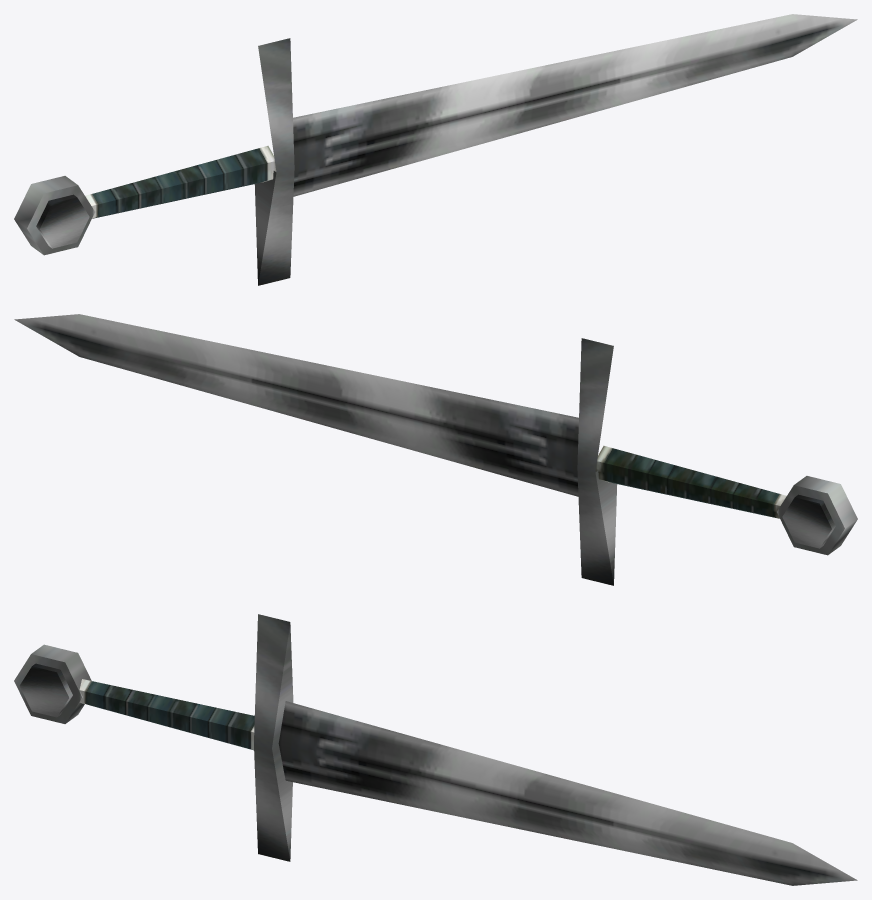
The picture shows the model from 3 angles, top to bottom: view 1: azimuth 30°, elevation 25°; view 2: azimuth 150°, elevation 25°; view 3: azimuth 330°, elevation 25°; orthographic projection.
Visible parts, largest first — view 1: it10650; view 2: it10650; view 3: it10650.
Part boxes in pixels (x1=…): it10650: x1=14, y1=14, x2=857, y2=285; it10650: x1=14, y1=314, x2=857, y2=585; it10650: x1=14, y1=614, x2=857, y2=885.
Size of the model in its own units: 1.98 by 0.5409 by 0.0924.
3 materials, 2 textured.
